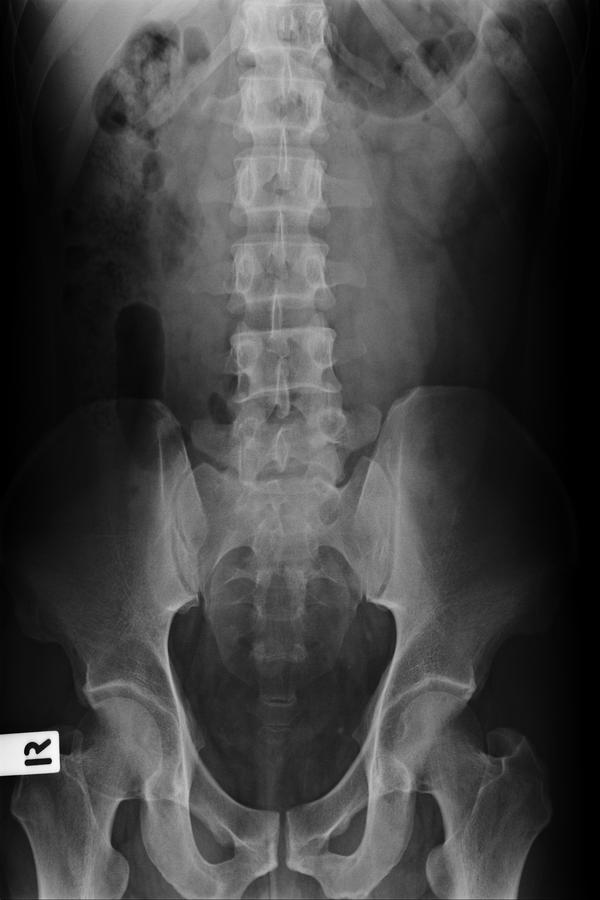not lumbar scoliosis: (230, 163, 349, 526)
